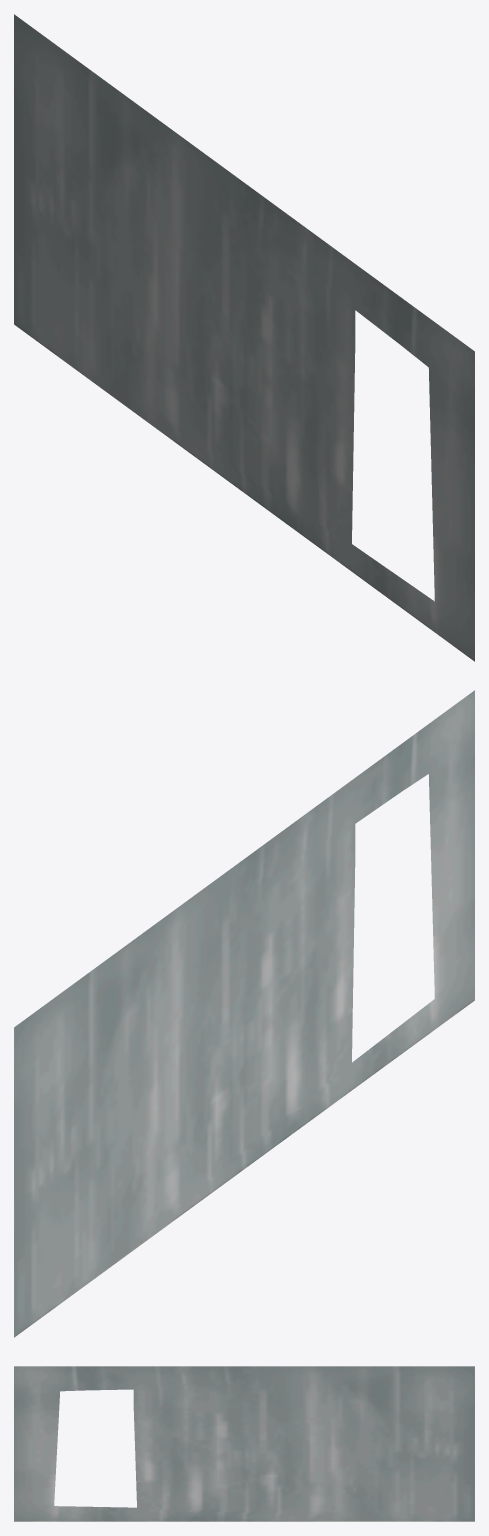
File: W_AI1_oxxx_1341.glb
3 views of the same model, one above another, from view 1: azimuth 30°, elevation 25°; view 2: azimuth 150°, elevation 25°; view 3: azimuth 270°, elevation 25° (orthographic). The views are drawn at different scales.
Visible parts, largest first — view 1: polySurfaceShape1266; view 2: polySurfaceShape1266; view 3: polySurfaceShape1266.
Boxes of the visible parts, left/top/right/bottom form: polySurfaceShape1266: left=14, top=14, right=474, bottom=661; polySurfaceShape1266: left=14, top=690, right=474, bottom=1337; polySurfaceShape1266: left=14, top=1366, right=474, bottom=1521.
Size of the model in its own units: 8.94e-08 by 0.3486 by 0.9385.
Materials: 1 (1 with a texture image).
